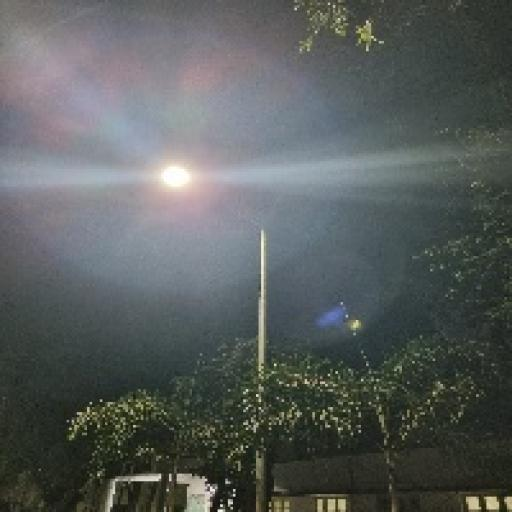Working: (155, 162, 195, 194)
